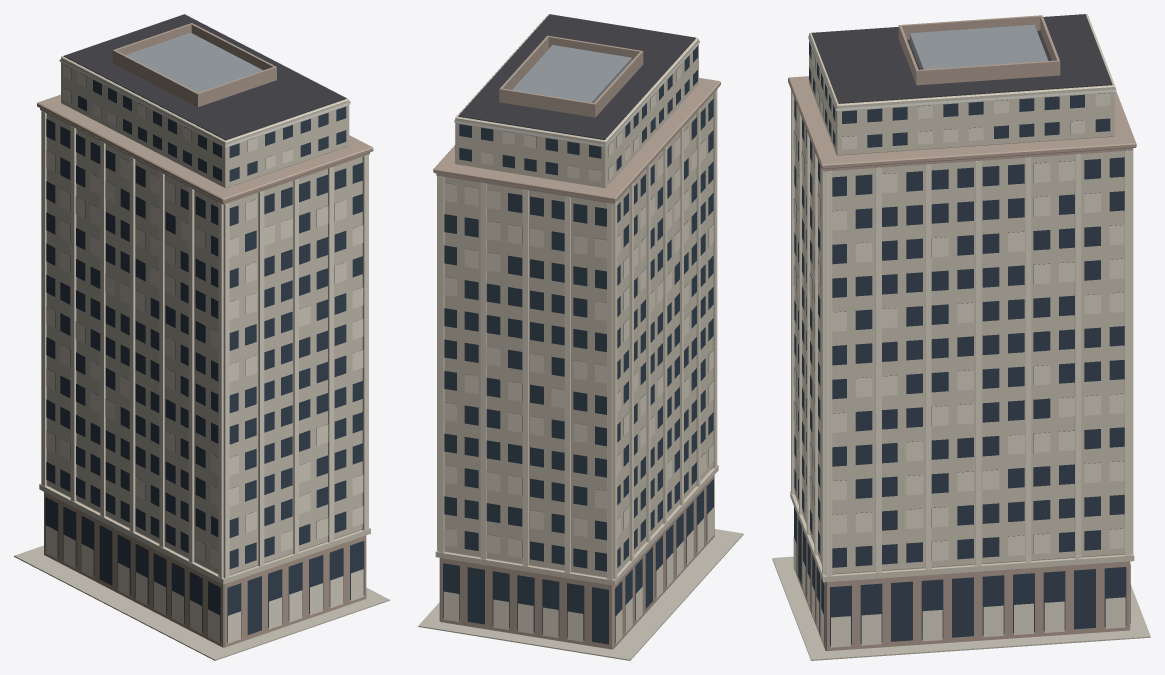
File: 250-montgomery-street.glb
The picture shows the model from 3 angles, left to right: view 1: azimuth 30°, elevation 25°; view 2: azimuth 150°, elevation 25°; view 3: azimuth 270°, elevation 25°; orthographic projection. The views are drawn at different scales.
Visible parts, largest first — view 1: 250-montgomery-street_body, 250-montgomery-street_night_glow; view 2: 250-montgomery-street_body, 250-montgomery-street_night_glow; view 3: 250-montgomery-street_body, 250-montgomery-street_night_glow.
Boxes of the visible parts, x1=… form: 250-montgomery-street_body: x1=14, y1=14, x2=389, y2=660; 250-montgomery-street_night_glow: x1=45, y1=59, x2=363, y2=643; 250-montgomery-street_body: x1=418, y1=14, x2=743, y2=660; 250-montgomery-street_night_glow: x1=443, y1=40, x2=713, y2=643; 250-montgomery-street_body: x1=772, y1=14, x2=1150, y2=660; 250-montgomery-street_night_glow: x1=793, y1=35, x2=1130, y2=647.
Size of the model in its own units: 33.71 by 69.88 by 43.14.
